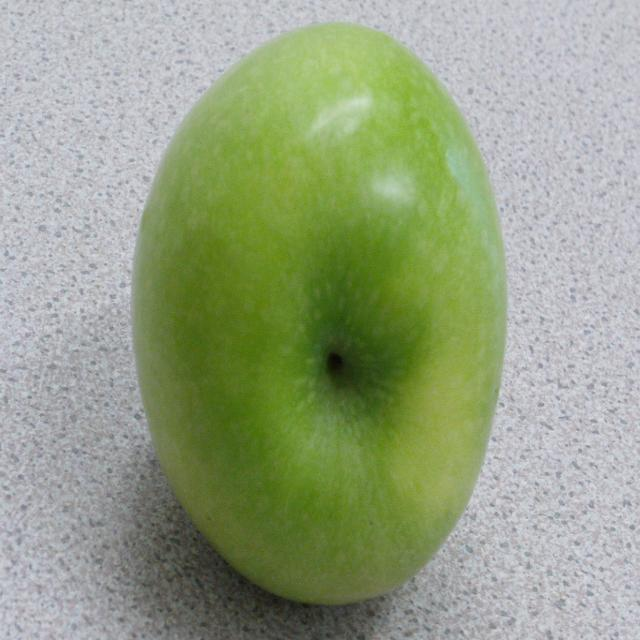Apple: (131, 21, 508, 608)
